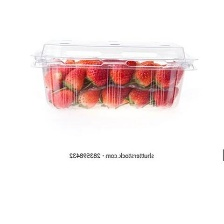plastic_box: (25, 30, 205, 117)
